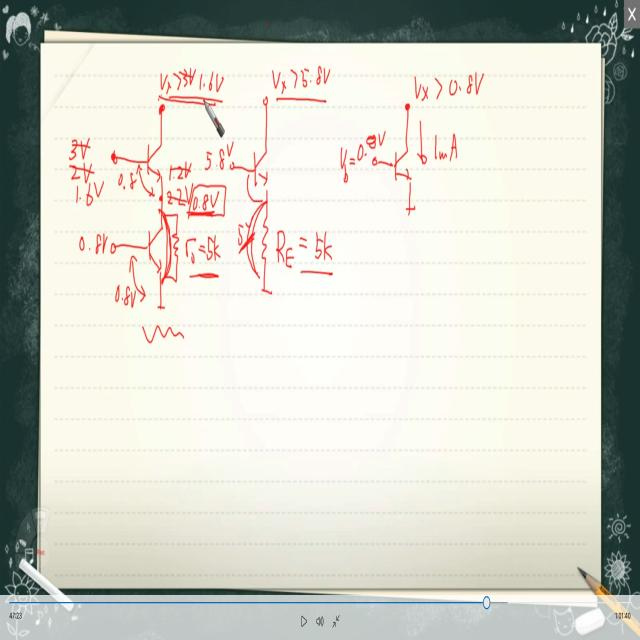panseo: (56, 49, 495, 361)
